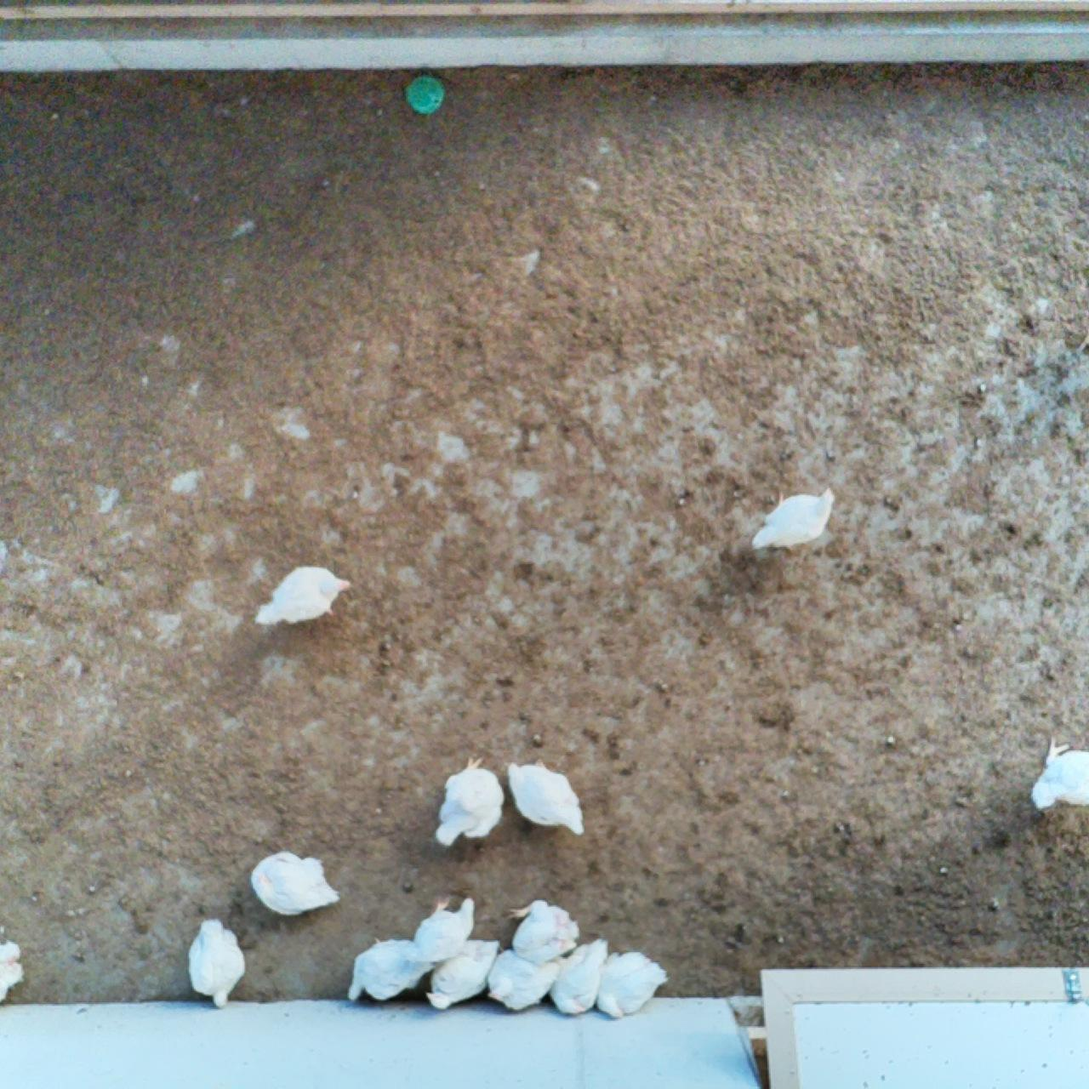chicken: (254, 558, 362, 634), (496, 751, 586, 839), (430, 750, 508, 848), (345, 931, 432, 1010), (749, 480, 836, 557), (421, 936, 508, 1011), (253, 844, 341, 918), (185, 912, 248, 1012), (593, 944, 674, 1021), (483, 941, 560, 1016), (409, 892, 484, 967), (1026, 727, 1089, 813), (550, 930, 610, 1018), (513, 896, 582, 966), (0, 927, 23, 1010)
